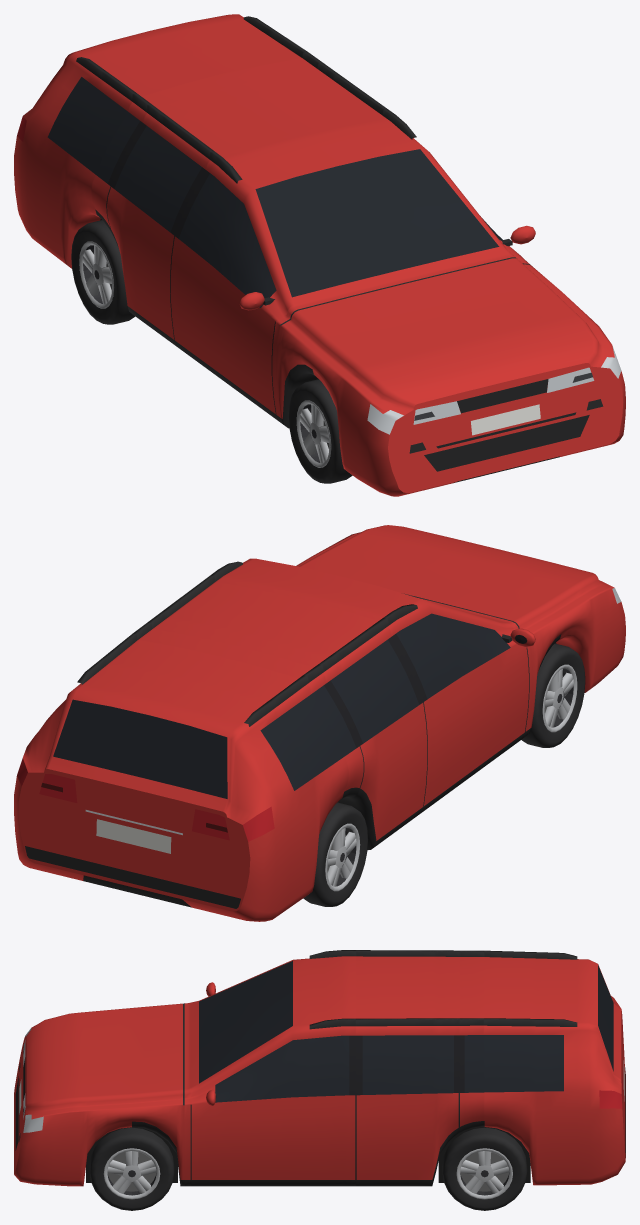
Rendered from traffic-estate.glb.
3 renders of one model, top to bottom at view 1: azimuth 30°, elevation 25°; view 2: azimuth 150°, elevation 25°; view 3: azimuth 270°, elevation 25°, orthographic. The views are drawn at different scales.
Parts seen in each view (by area): view 1: body_paint, body_details, wheel_rr, wheel_fr; view 2: body_paint, body_details, wheel_rr, wheel_fr; view 3: body_paint, body_details, wheel_fl, wheel_rl.
Part boxes in pixels (x1=…): body_paint: x1=14, y1=14, x2=625, y2=496; body_details: x1=17, y1=16, x2=621, y2=483; wheel_rr: x1=71, y1=220, x2=134, y2=324; wheel_fr: x1=288, y1=379, x2=352, y2=483; body_paint: x1=14, y1=525, x2=625, y2=921; body_details: x1=17, y1=561, x2=621, y2=908; wheel_rr: x1=303, y1=802, x2=368, y2=906; wheel_fr: x1=521, y1=643, x2=585, y2=747; body_paint: x1=14, y1=956, x2=625, y2=1186; body_details: x1=15, y1=950, x2=625, y2=1186; wheel_fl: x1=89, y1=1127, x2=174, y2=1210; wheel_rl: x1=442, y1=1127, x2=527, y2=1210.
Size of the model in its own units: 2.07 by 1.47 by 4.56.
2 materials, 1 textured.
